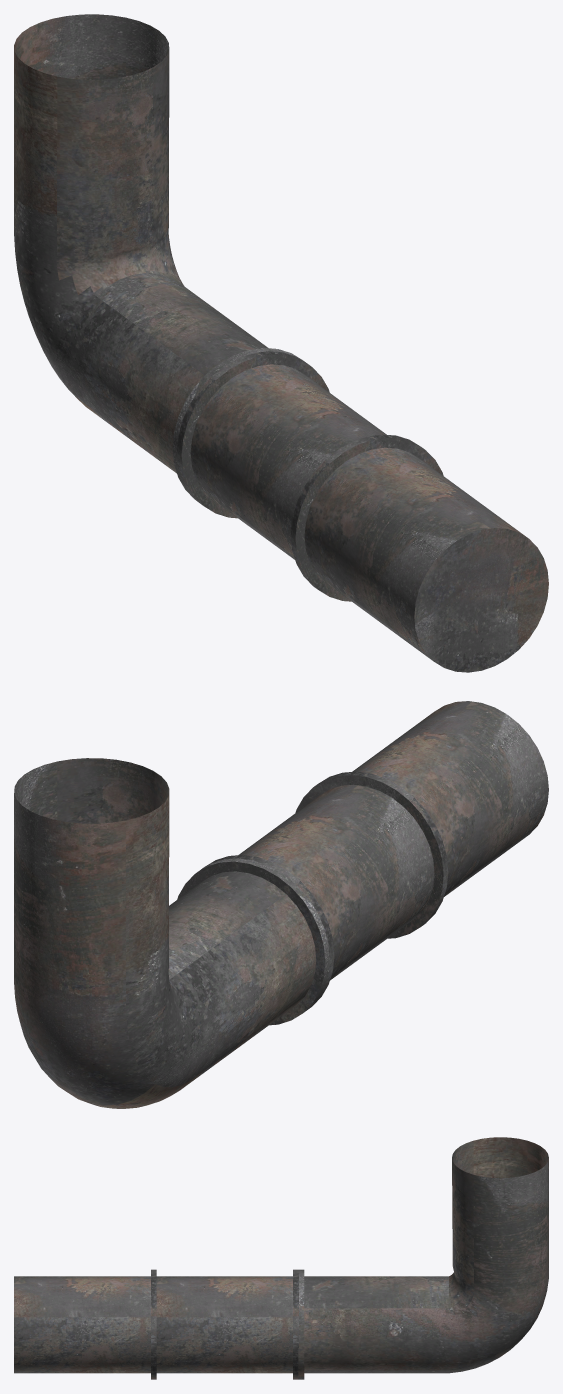
The model's file is MetalPipe.fbx.
3 renders of one model, top to bottom at view 1: azimuth 30°, elevation 25°; view 2: azimuth 150°, elevation 25°; view 3: azimuth 270°, elevation 25°, orthographic. The views are drawn at different scales.
Visible parts, largest first — view 1: Cylinder.002, Cylinder.003, Cylinder.001; view 2: Cylinder.002, Cylinder.003, Cylinder.001; view 3: Cylinder.002, Cylinder.003, Cylinder.001.
Boxes of the visible parts, x1,y1,x2,y2 form: Cylinder.002: (14, 14, 305, 502); Cylinder.003: (290, 434, 548, 672); Cylinder.001: (177, 351, 386, 559); Cylinder.002: (14, 758, 329, 1108); Cylinder.003: (295, 701, 548, 938); Cylinder.001: (201, 784, 434, 1009); Cylinder.002: (298, 1137, 548, 1379); Cylinder.003: (14, 1269, 156, 1379); Cylinder.001: (156, 1269, 298, 1379).
Size of the model in its own units: 227 by 493 by 1103.
Materials: 2 (2 with a texture image).
